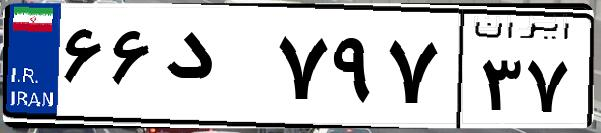3: (475, 38, 525, 113)
6: (57, 26, 110, 100), (110, 28, 158, 98)
7: (270, 28, 330, 110), (385, 28, 445, 110), (525, 38, 570, 115)
9: (330, 28, 385, 110)
د: (158, 20, 270, 120)
